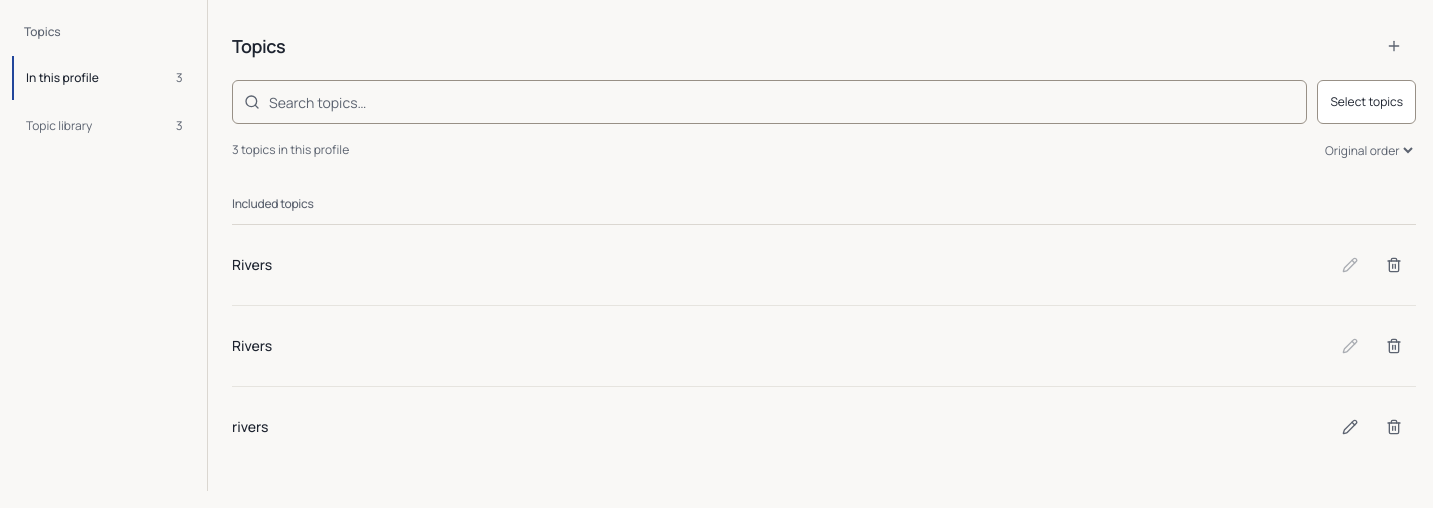
Test: CustomProfileTopics › removes one duplicate occurrence, delegates Undo and keeps the final-topic guard
Later steps or results of the test are not shown.
What coordinates should you click on to do the following:
click the 1st button named "Remove Rivers"
I would click on:
 (1394, 265)
Its box is [1372, 243, 1416, 287].
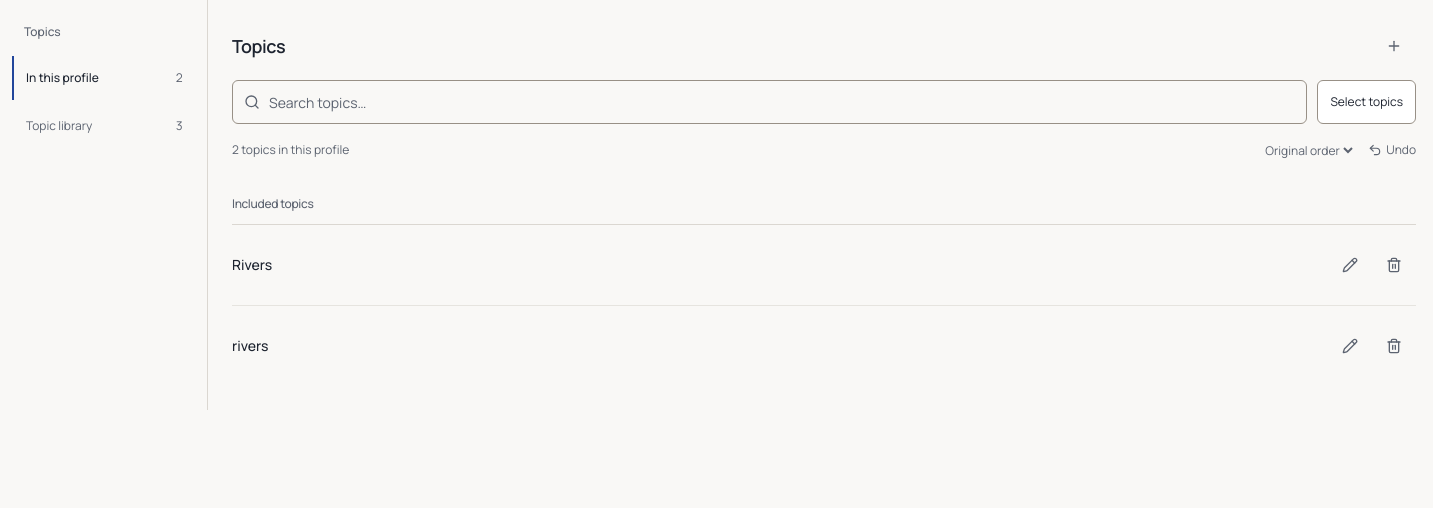
What coordinates should you click on to do the following:
click the button with aria-label "Undo last topic change"
I would click on:
 (1392, 150)
Its box is [1368, 128, 1416, 172].
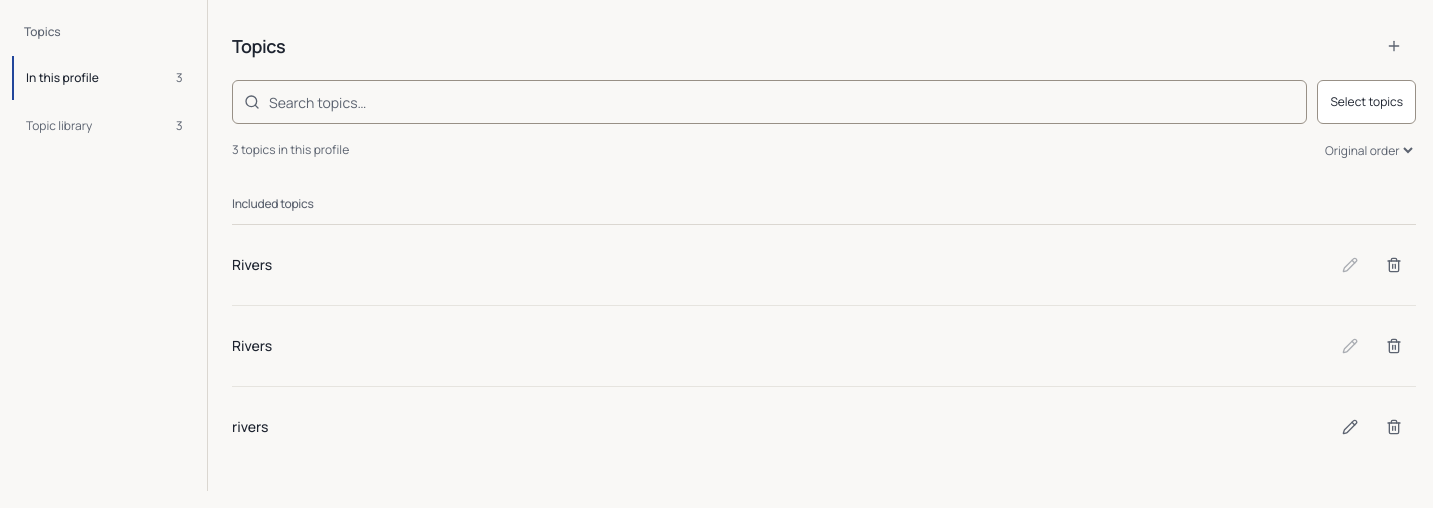
What coordinates should you click on to do the following:
click the 1st button named "Remove Rivers"
I would click on:
 (1394, 265)
Its box is [1372, 243, 1416, 287].
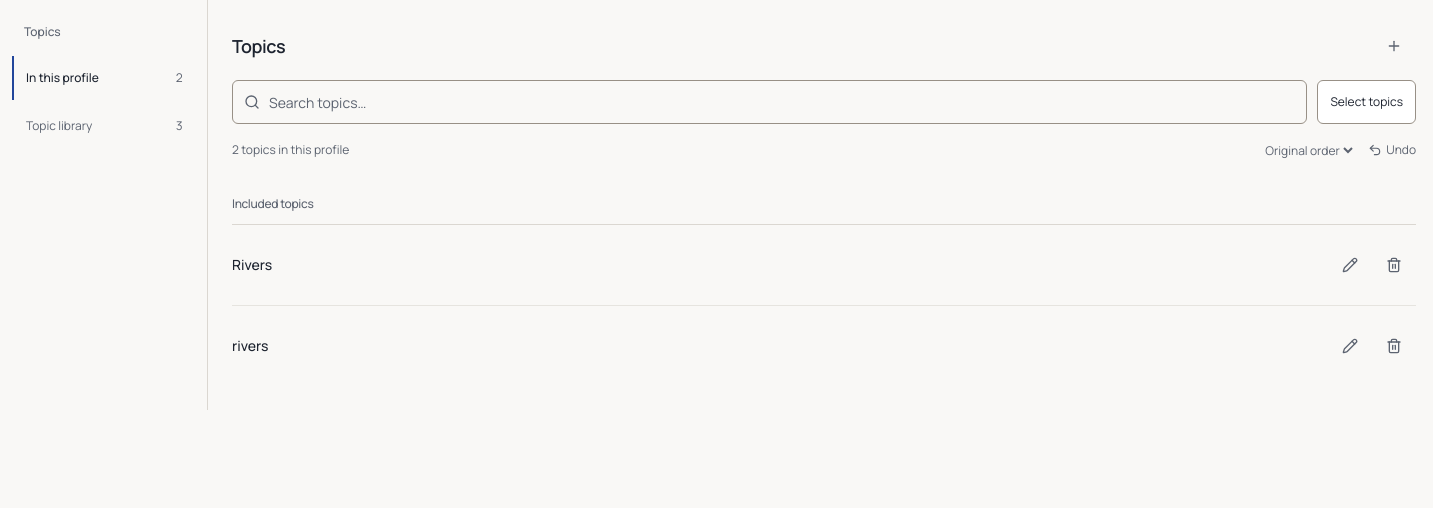
What coordinates should you click on to do the following:
click the button named "Remove rivers"
I would click on:
 (1394, 346)
Its box is [1372, 324, 1416, 368].
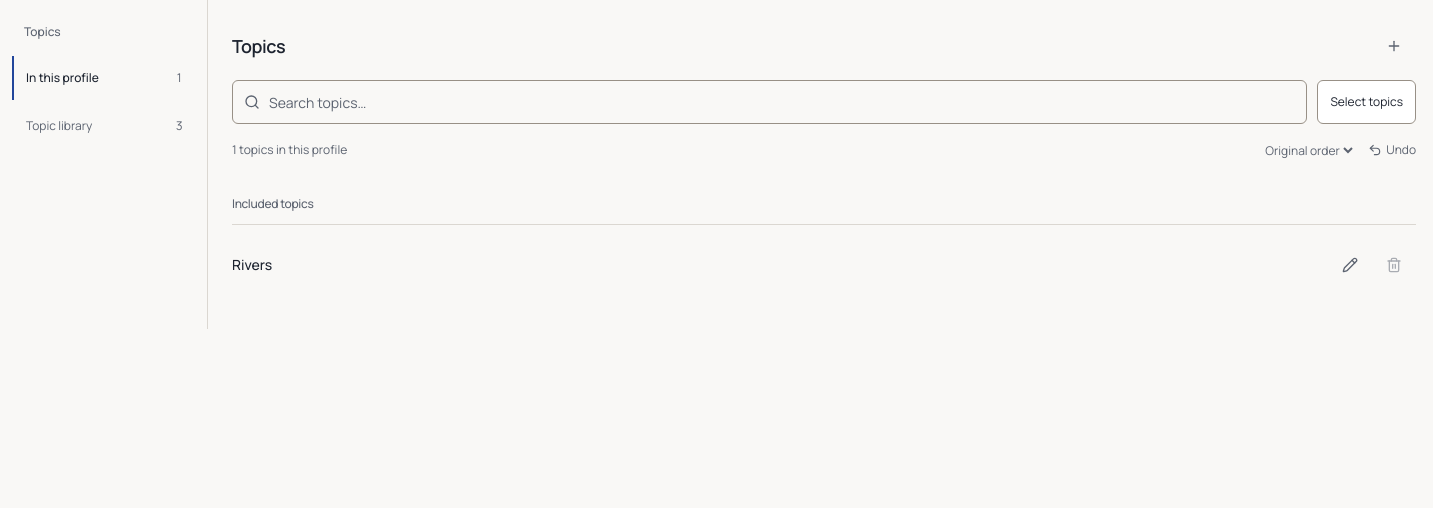
Expected: the button named "Remove Rivers" is disabled, [1372, 243, 1416, 287]
